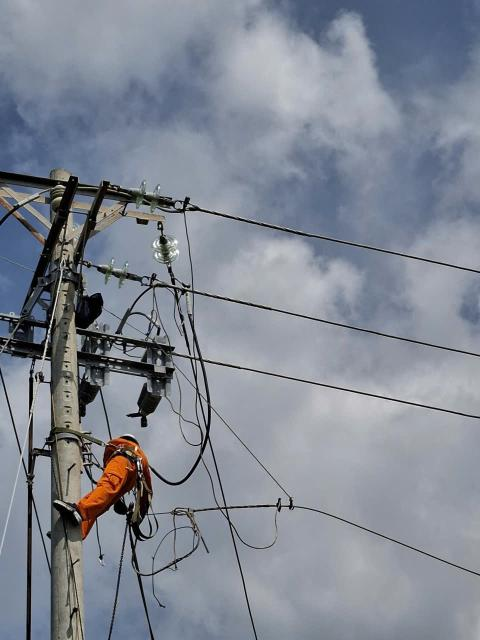harness: (103, 431, 154, 484)
helmet: (113, 425, 146, 450)
shoes: (51, 493, 92, 535)
